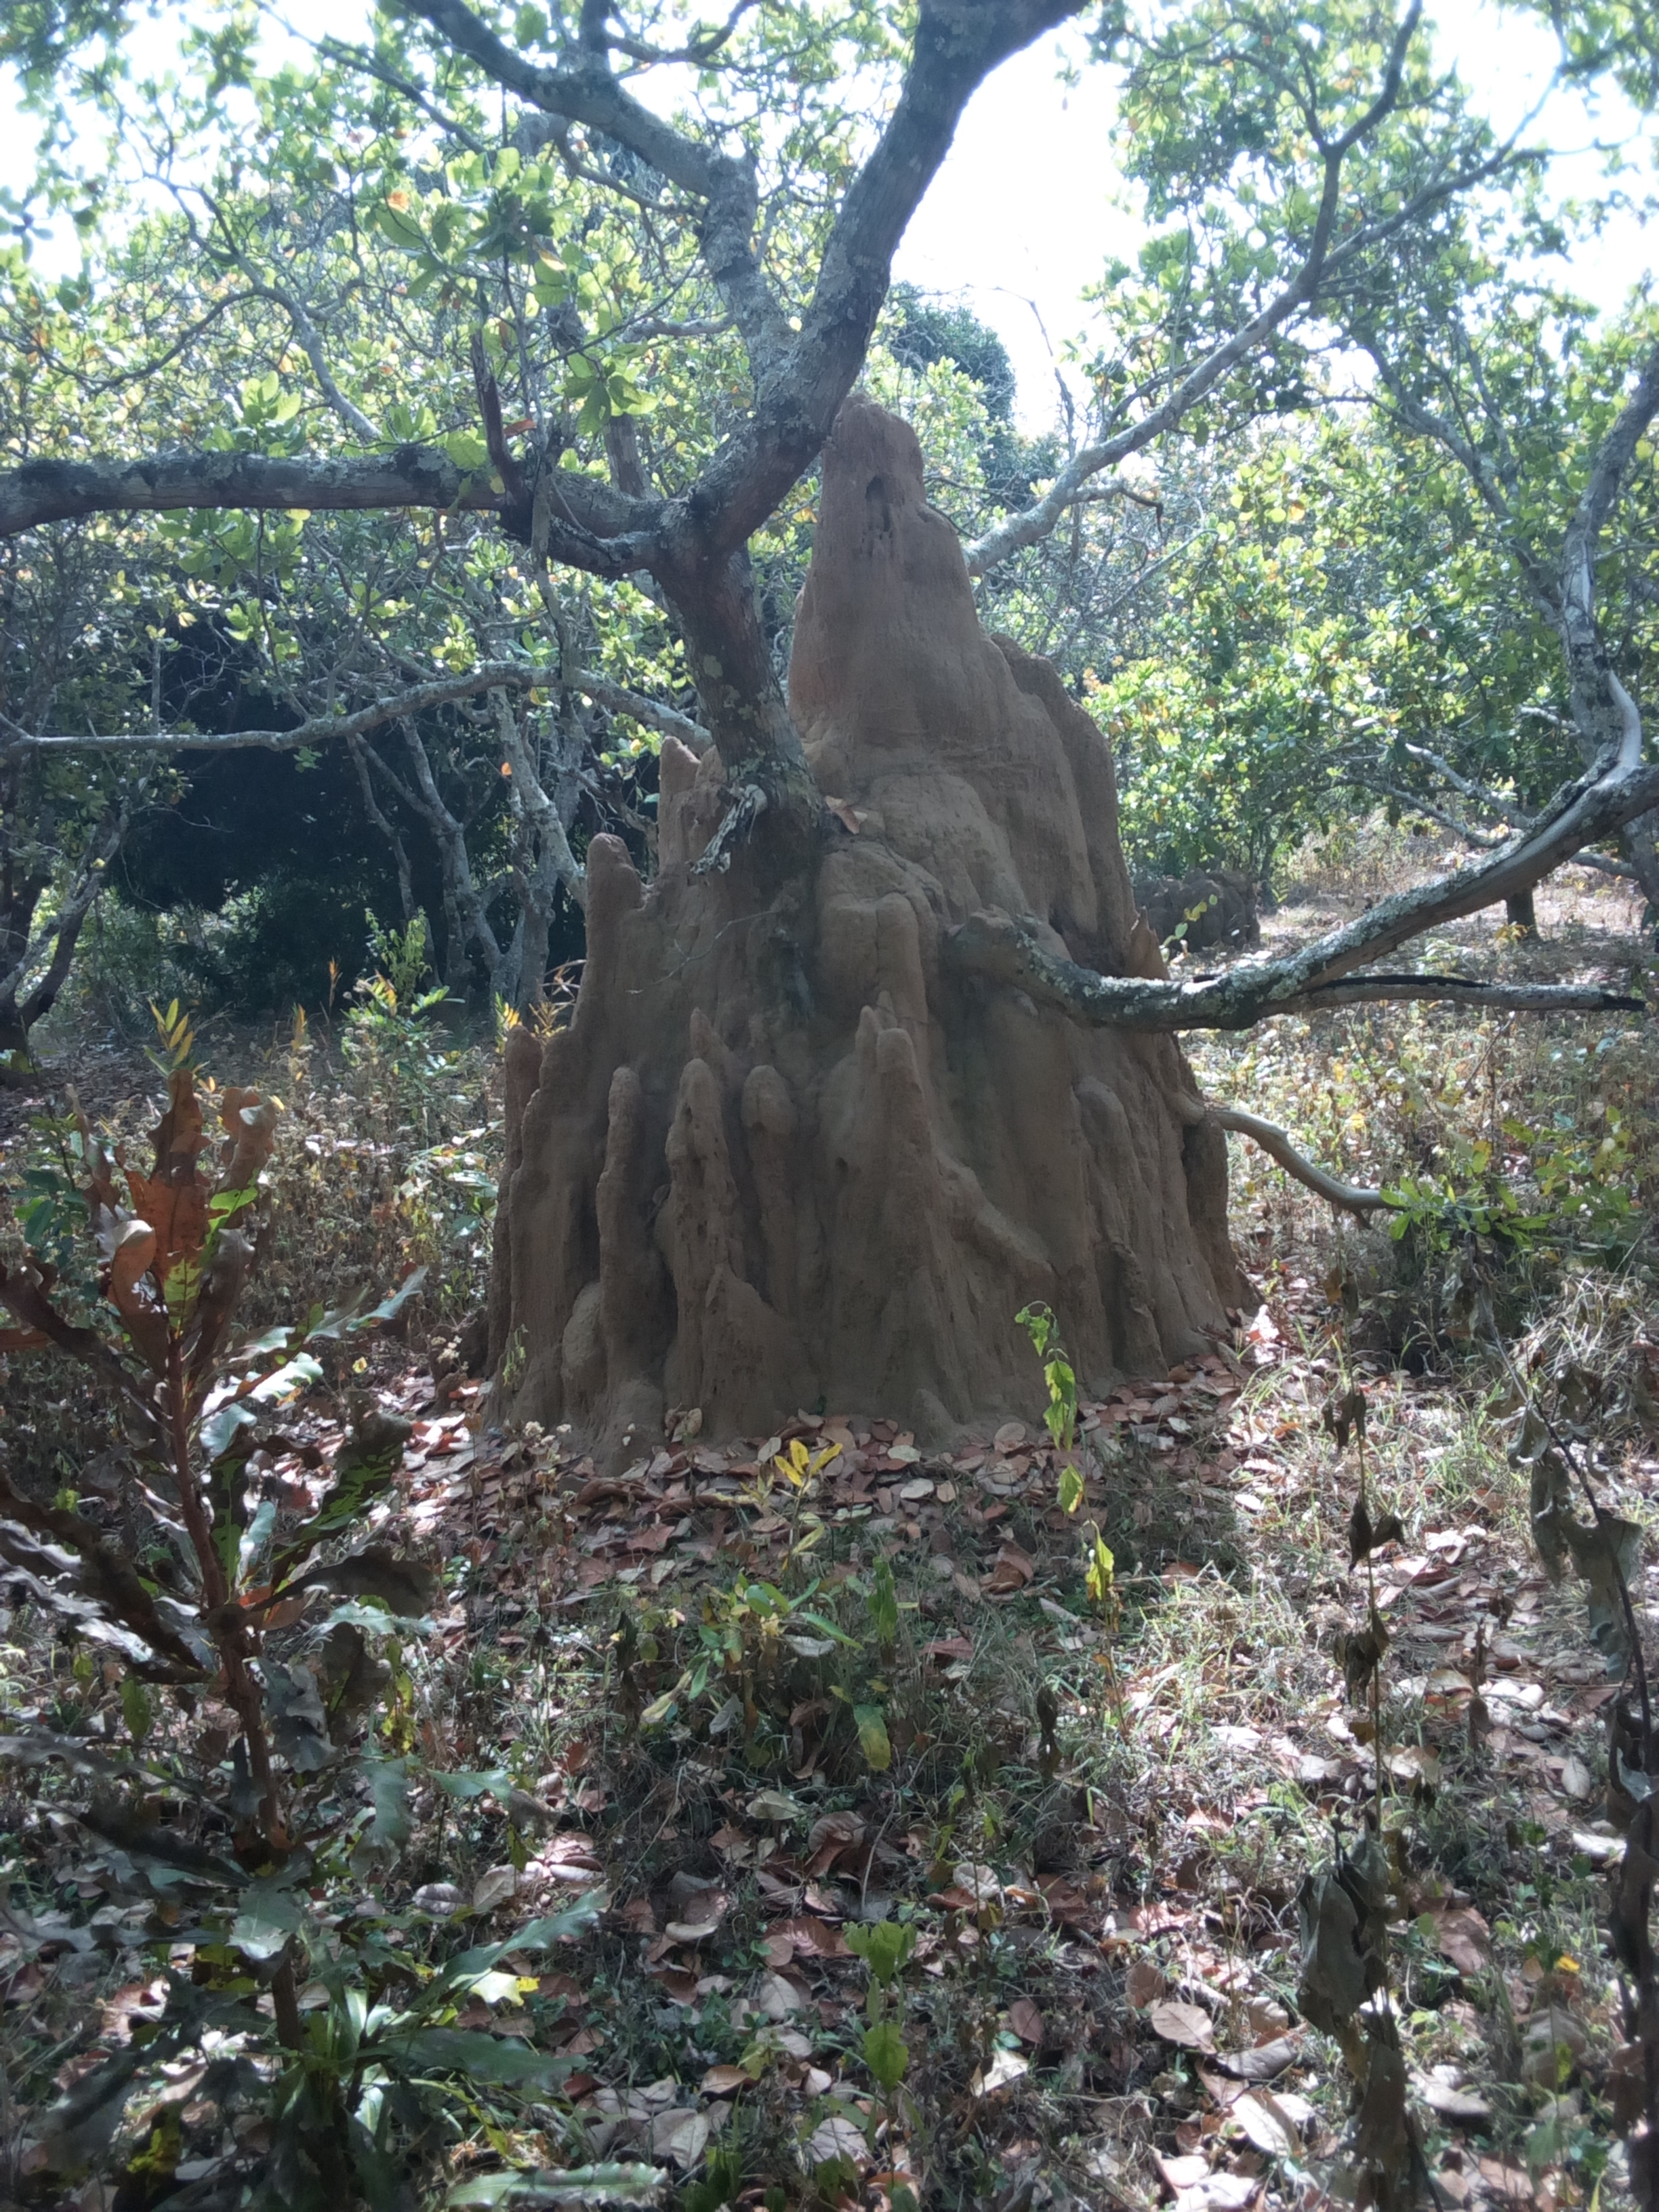Termites: (511, 899, 972, 1411), (847, 411, 1121, 923), (1009, 1042, 1243, 1374)
